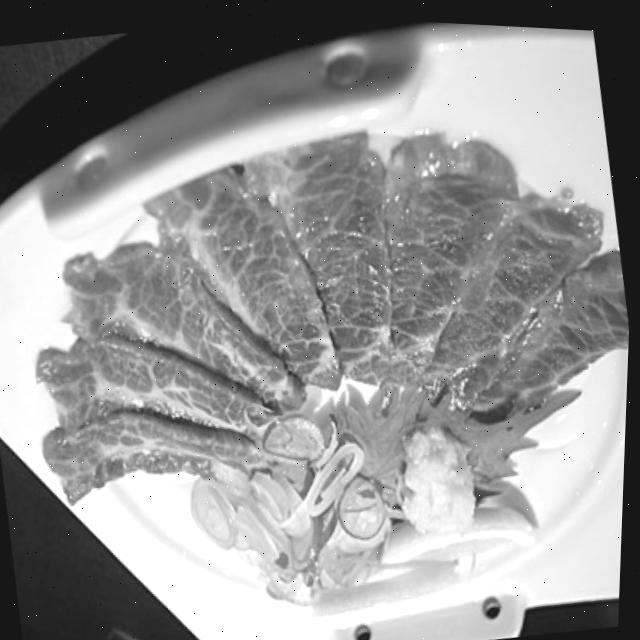刺身生食: (0, 65, 638, 606)
